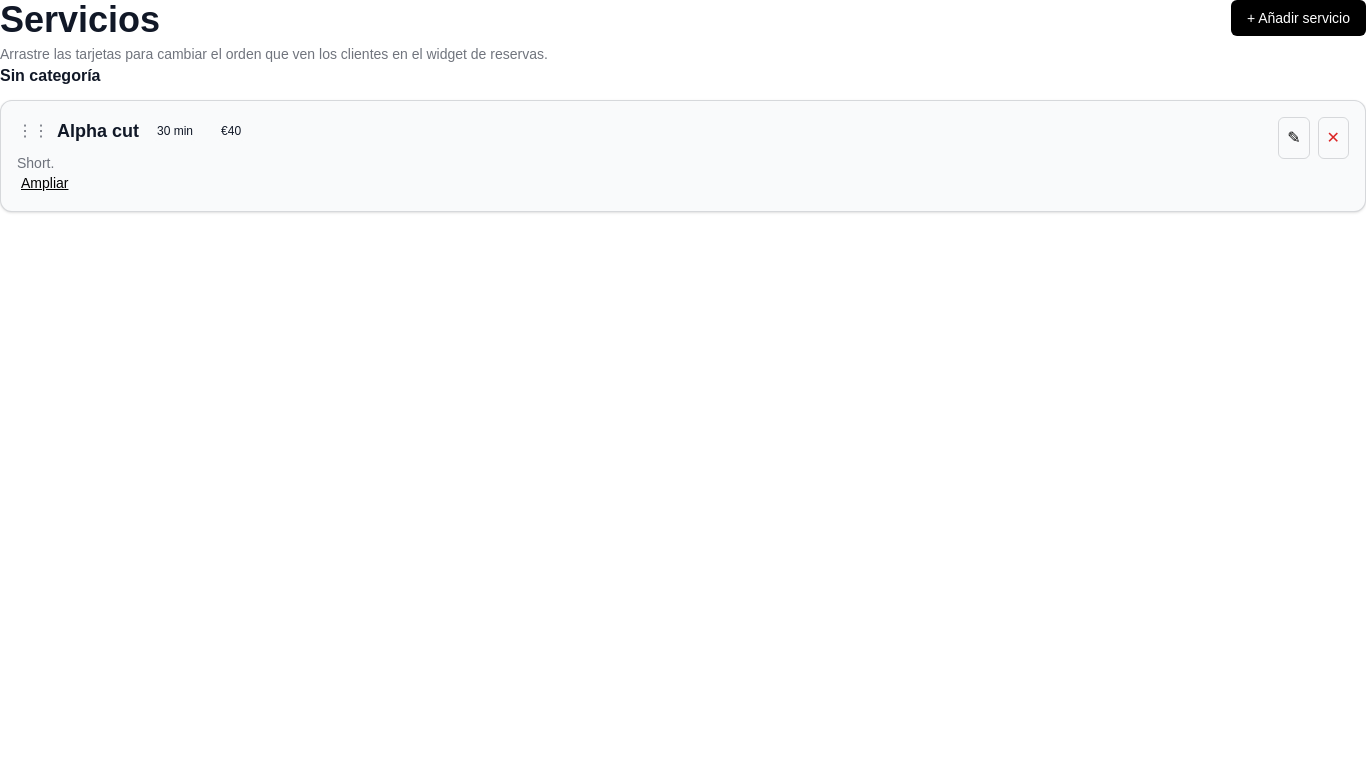
AdminServicesPage › removes a service after confirming delete, and surfaces delete PUT failures
Expected: the heading "Alpha cut" is shown, [57,117,139,145]
Click the button "✕": (1333, 138) [1318,117,1349,159]
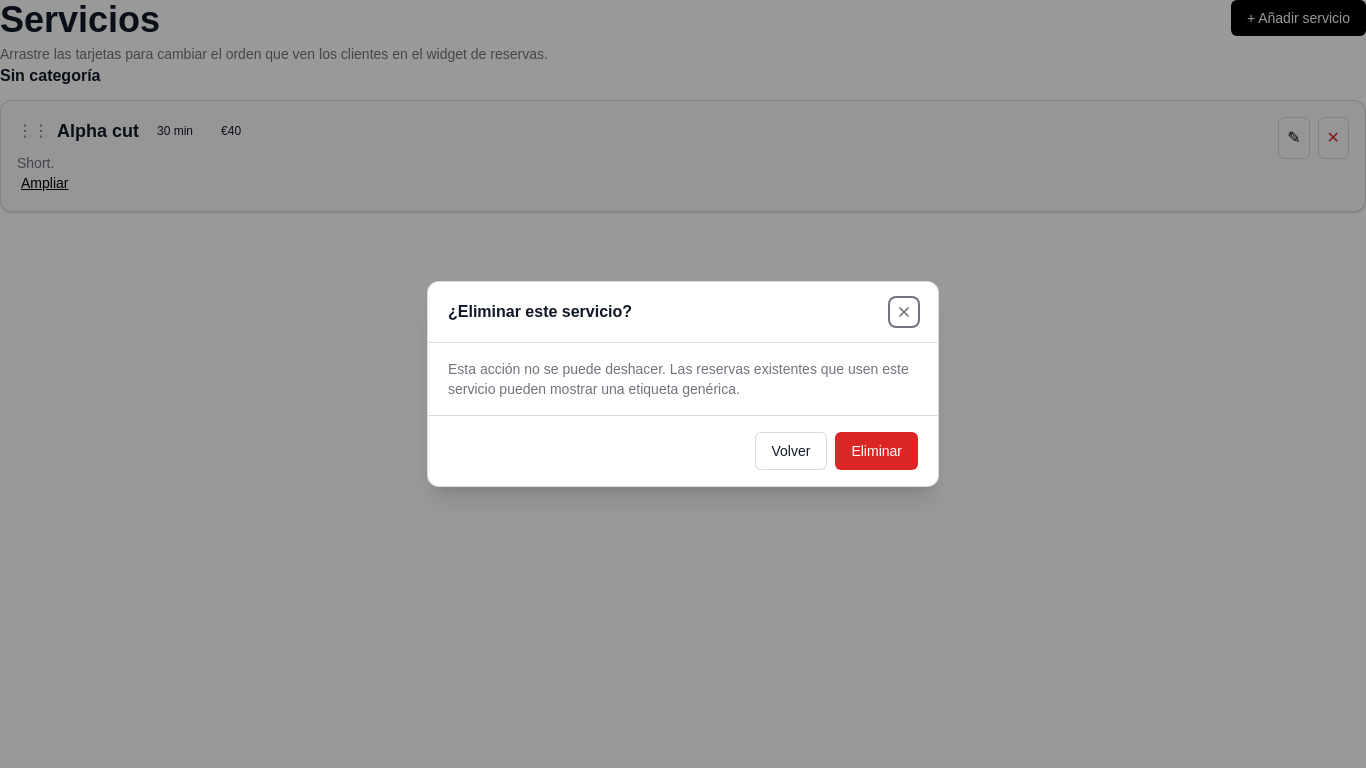
Now the heading "¿Eliminar este servicio?" is shown, box [448,300,632,324]
Click the button "Eliminar": (877, 451) [835,432,918,470]
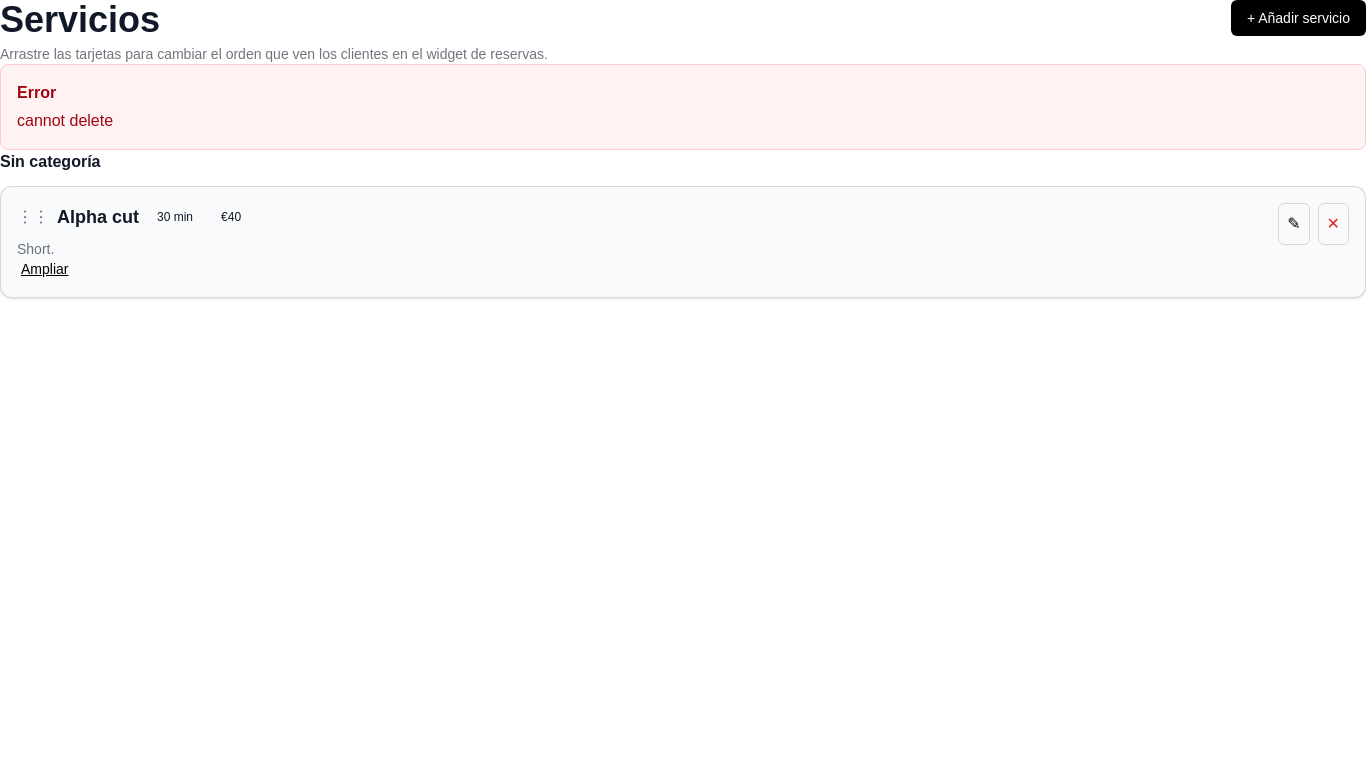
Now the text "cannot delete" is shown, box [17,112,113,129]
